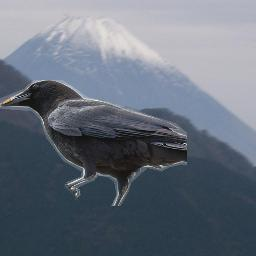Crow: (0, 80, 187, 206)
